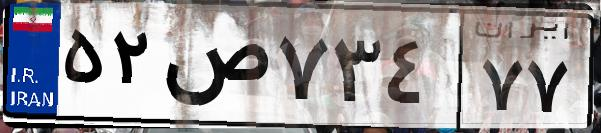2: (110, 28, 158, 98)
3: (330, 28, 385, 110)
4: (385, 28, 445, 110)
5: (57, 26, 110, 100)
7: (270, 28, 330, 110), (475, 38, 525, 113), (525, 38, 570, 115)
ص: (158, 20, 270, 120)
